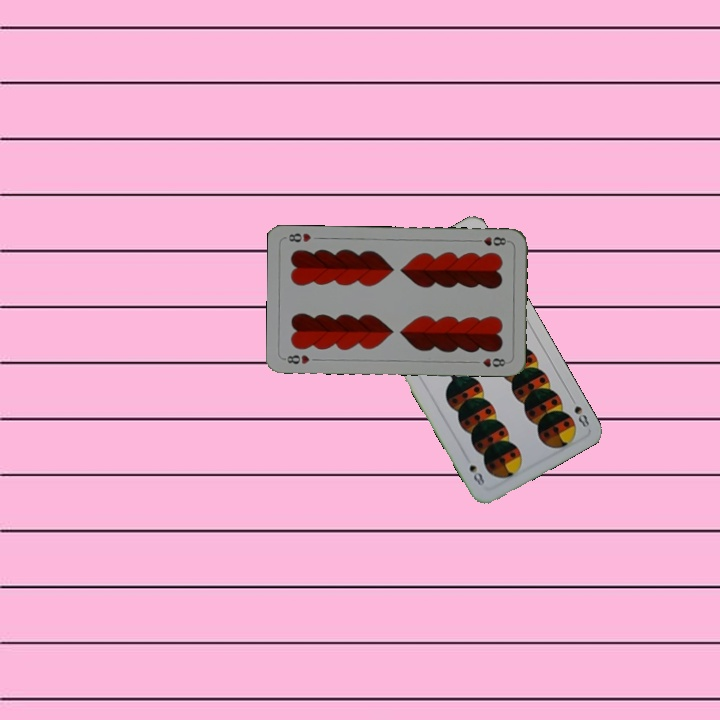H8: (471, 233, 511, 248), (281, 351, 312, 366)
S8: (566, 392, 594, 430)
